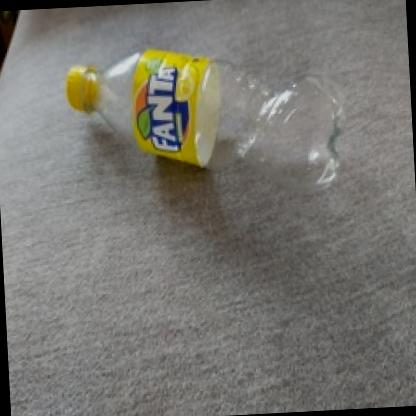plastic_bottles: (63, 34, 353, 204)
